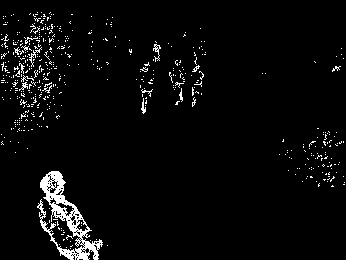person: (35, 171, 104, 259), (137, 63, 154, 114), (169, 58, 186, 105), (191, 65, 205, 108)
